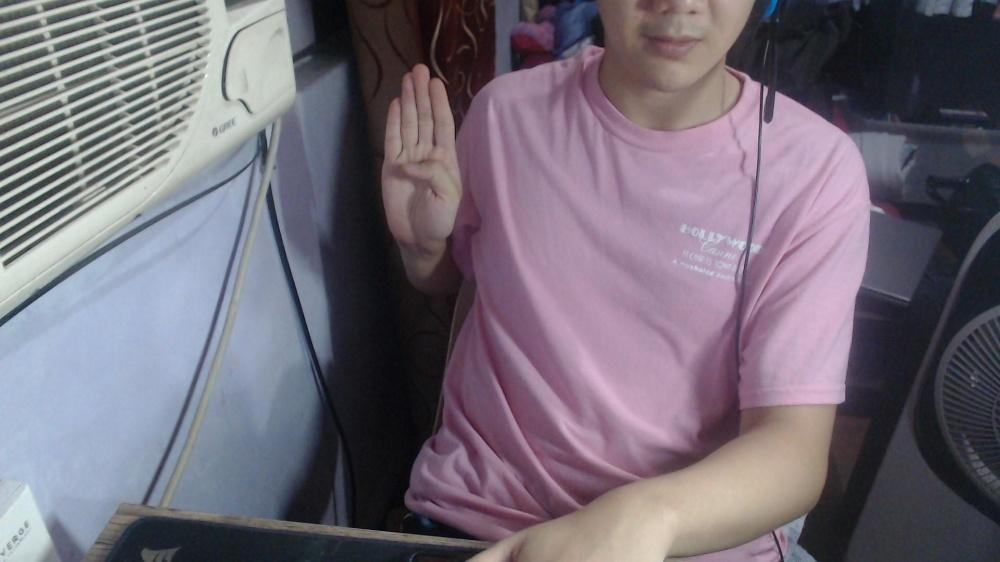b: (379, 62, 464, 243)
